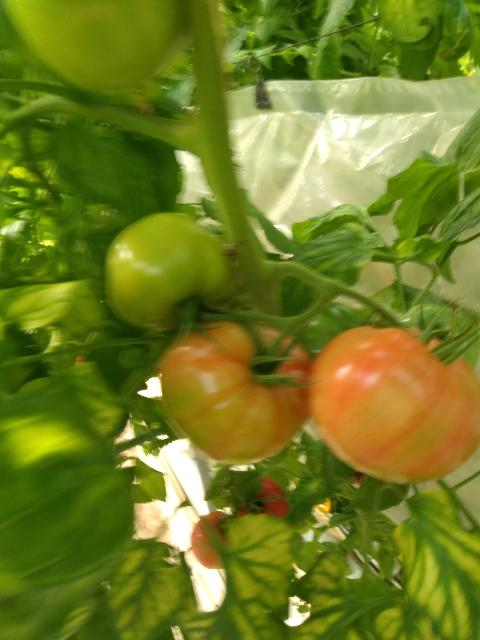b_fully_ripened: (235, 477, 288, 521)
b_green: (1, 0, 193, 94), (105, 212, 234, 333), (392, 303, 479, 372), (292, 302, 376, 360)
b_half_ripened: (308, 326, 480, 486), (160, 320, 313, 464), (191, 511, 231, 569)
